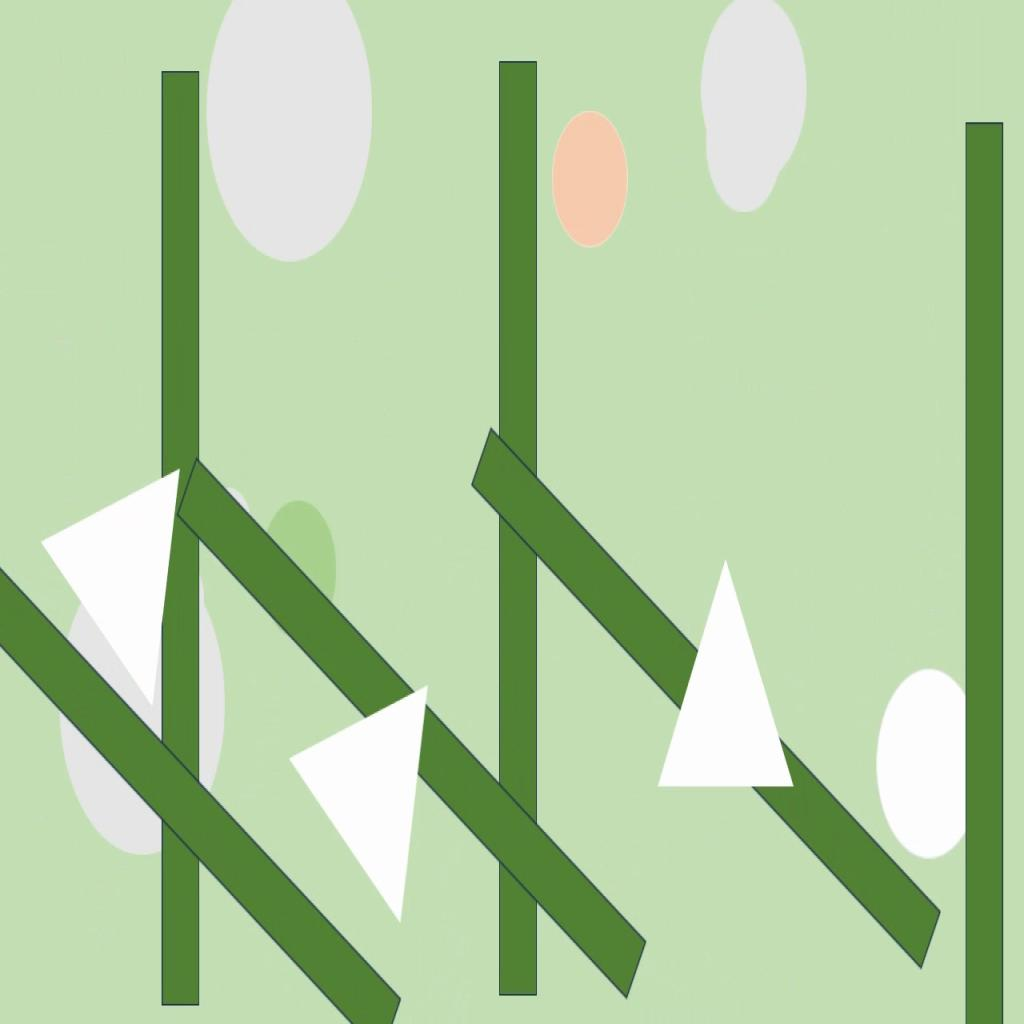Circle: (59, 558, 227, 855), (205, 0, 374, 265), (877, 667, 984, 860), (700, 0, 808, 181), (550, 108, 629, 250), (708, 87, 779, 215), (265, 500, 334, 617)
